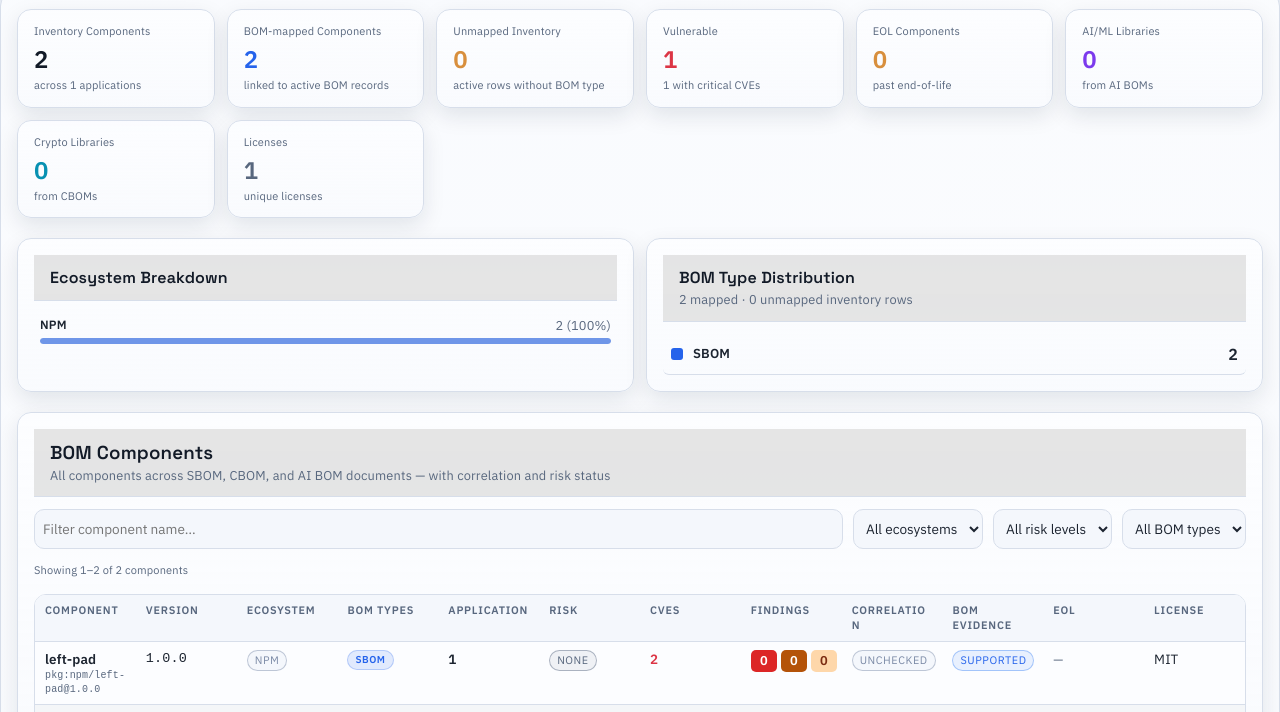
BomComponents › the Licenses card is clickable and resets to the full unfiltered list
Expected: the text "left-pad" is shown, [45,650,96,668]
Click the text "Vulnerable". click: [745, 58]
box: [646,9,844,108]
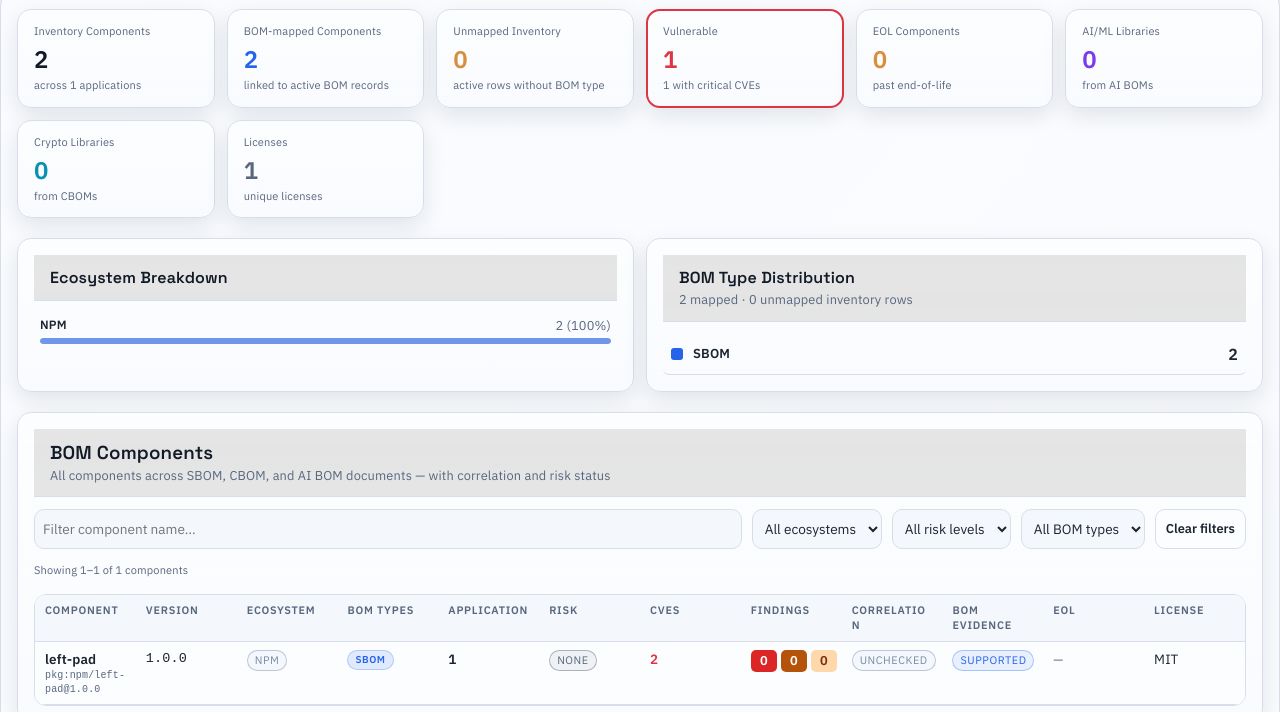
Click the text "Licenses". click: [326, 169]
box: [227,120,424,218]
(page scrolled)
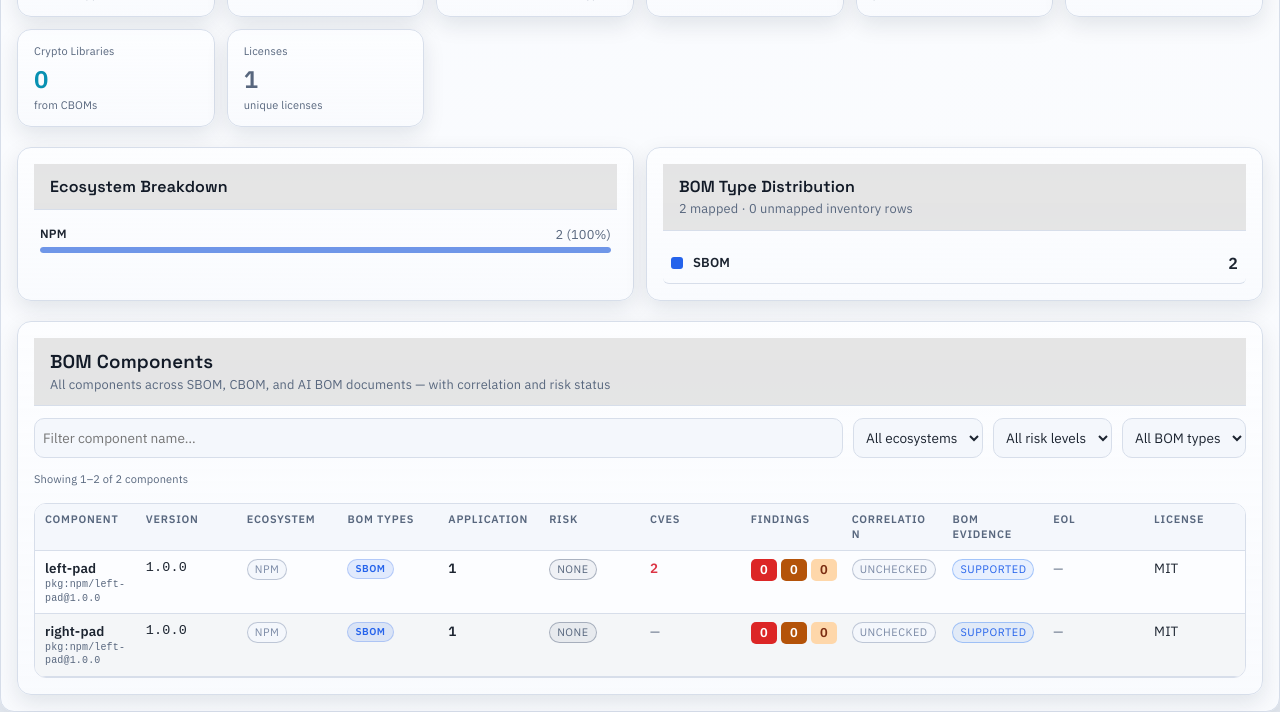
Expected: the text "left-pad" is shown, [45,559,96,577]
Expected: the text "right-pad" is shown, [45,622,104,640]
